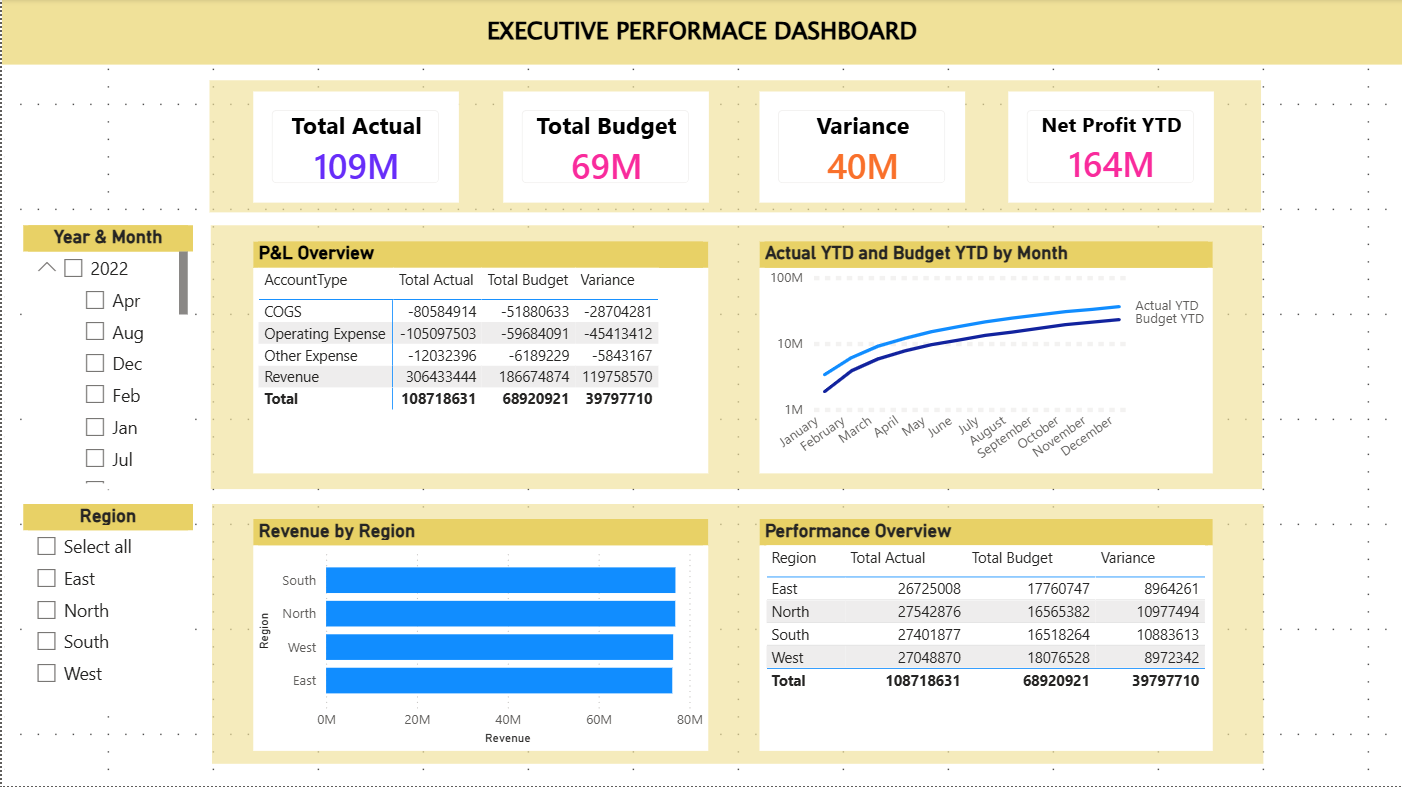

Layout of this report page (visuals, bound fields, positions):
{"tool":"powerbi","page":{"name":"Page 1","canvas":[1280,720],"ordinal":0},"visuals":[{"type":"textbox","box":[9.7,0,1270.3,47.3],"z":0},{"type":"shape","box":[0,0,1280,60.3],"z":1000},{"type":"shape","box":[189.2,73.7,961.4,121],"z":2000},{"type":"cardVisual","fields":{"Data":["All Measures.Total Actual"]},"box":[229.6,84.9,187.8,101.6],"z":3000},{"type":"cardVisual","fields":{"Data":["All Measures.Total Budget"]},"box":[457.7,84.9,187.8,101.6],"z":4000},{"type":"cardVisual","fields":{"Data":["All Measures.Variance"]},"box":[692.9,84.9,187.8,101.6],"z":5000},{"type":"cardVisual","fields":{"Data":["All Measures.Net Profit YTD"]},"box":[919.7,84.9,187.8,101.6],"z":6000},{"type":"shape","box":[190.8,206.8,961.2,241.2],"z":7000},{"type":"pivotTable","title":"P&L Overview","fields":{"Rows":["Dim_Account.AccountType"],"Values":["All Measures.Total Actual","All Measures.Total Budget","All Measures.Variance"]},"box":[230.2,221.5,416,211.7],"z":8000},{"type":"lineChart","fields":{"Y":["All Measures.Actual YTD","All Measures.Budget YTD"],"Category":["Dim_Date.Date.Variation.Date Hierarchy.Month"]},"box":[692.9,221.5,414.8,211.7],"z":9000},{"type":"shape","box":[192,461.5,961.2,237.5],"z":10000},{"type":"barChart","fields":{"Category":["Dim_Region.Region"],"Y":["All Measures.Revenue"]},"box":[230.2,475.1,416,211.7],"z":11000},{"type":"tableEx","title":"Performance Overview","fields":{"Values":["Dim_Region.Region","All Measures.Total Actual","All Measures.Total Budget","All Measures.Variance"]},"box":[692.9,475.1,414.8,211.7],"z":12000},{"type":"slicer","title":"Year & Month","fields":{"Values":["Dim_Date.Year","Dim_Date.Month"]},"box":[19.7,206.8,155.1,241.2],"z":13000},{"type":"slicer","title":"Region","fields":{"Values":["Dim_Region.Region"]},"box":[19.7,461.5,155.1,185.8],"z":14000}]}

Visuals, with their boxes in screenshot pixels (x1, y1, x2, y2), scaled from the page's 1280x720 canvas onto the 1402x787 screenshot:
textbox: select_region(11, 0, 1401, 52)
shape: select_region(0, 0, 1401, 66)
shape: select_region(207, 81, 1260, 213)
cardVisual - All Measures.Total Actual: select_region(251, 93, 457, 204)
cardVisual - All Measures.Total Budget: select_region(501, 93, 707, 204)
cardVisual - All Measures.Variance: select_region(759, 93, 965, 204)
cardVisual - All Measures.Net Profit YTD: select_region(1007, 93, 1213, 204)
shape: select_region(209, 226, 1262, 490)
"P&L Overview" pivotTable: select_region(252, 242, 708, 474)
lineChart - All Measures.Actual YTD x All Measures.Budget YTD: select_region(759, 242, 1213, 474)
shape: select_region(210, 504, 1263, 764)
barChart - Dim_Region.Region x All Measures.Revenue: select_region(252, 519, 708, 751)
"Performance Overview" tableEx: select_region(759, 519, 1213, 751)
"Year & Month" slicer: select_region(22, 226, 191, 490)
"Region" slicer: select_region(22, 504, 191, 708)
